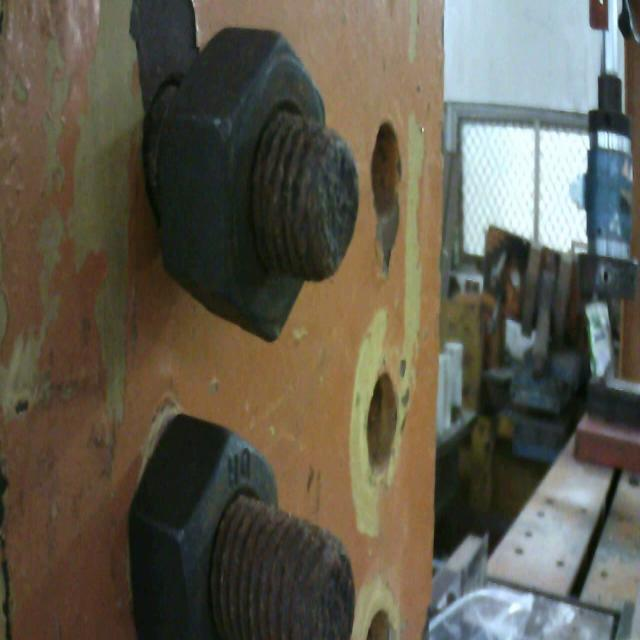Loose bolt: (141, 28, 361, 353)
Missing bolt: (370, 110, 403, 217), (368, 370, 398, 484), (367, 608, 397, 640)
Rusty bolt: (145, 34, 361, 352), (119, 413, 359, 640)
